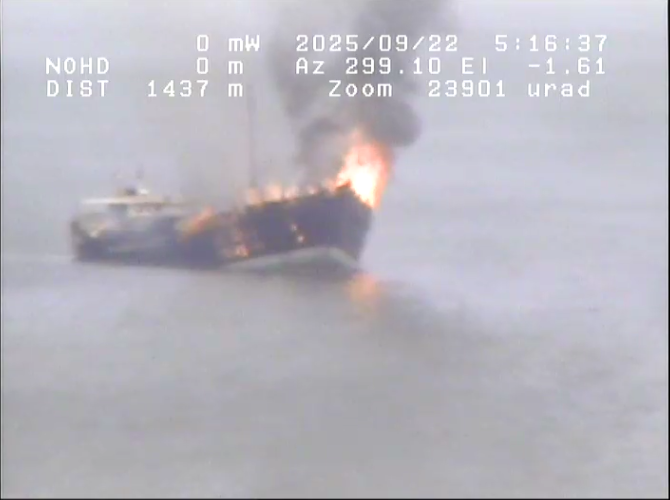FIRE_ONBOARD: (16, 41, 504, 349)
FISHING_VESSEL: (44, 104, 439, 315)
